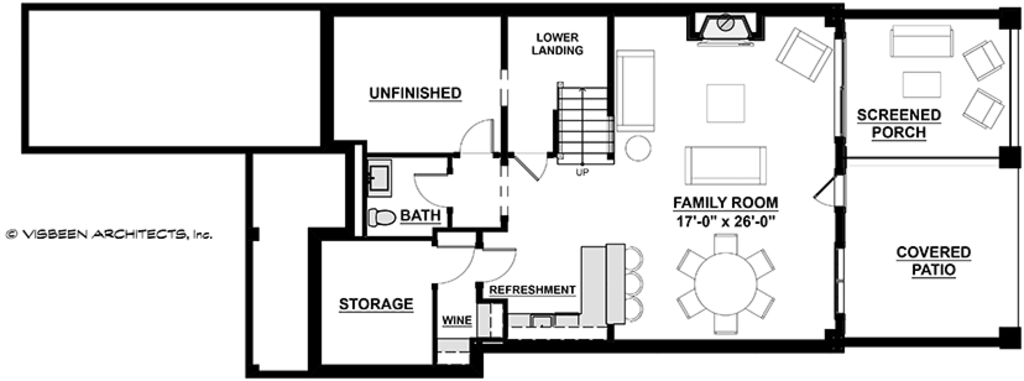door: (408, 167, 456, 210), (479, 247, 528, 287), (430, 243, 474, 285), (459, 115, 500, 158), (512, 151, 551, 183)
kitchen_bar: (575, 225, 642, 338)
large_sink: (359, 205, 403, 235)
large_sofa: (683, 142, 778, 188), (620, 43, 663, 138), (884, 18, 958, 62)
round_table: (662, 218, 792, 334)
small_sink: (364, 157, 393, 207)
small_sofa: (779, 19, 836, 86), (962, 33, 1003, 82), (961, 86, 1005, 131)
stairs: (559, 80, 616, 164)
